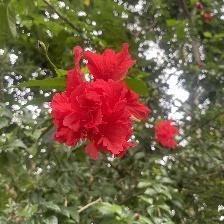hibiscus: (47, 42, 156, 164)
